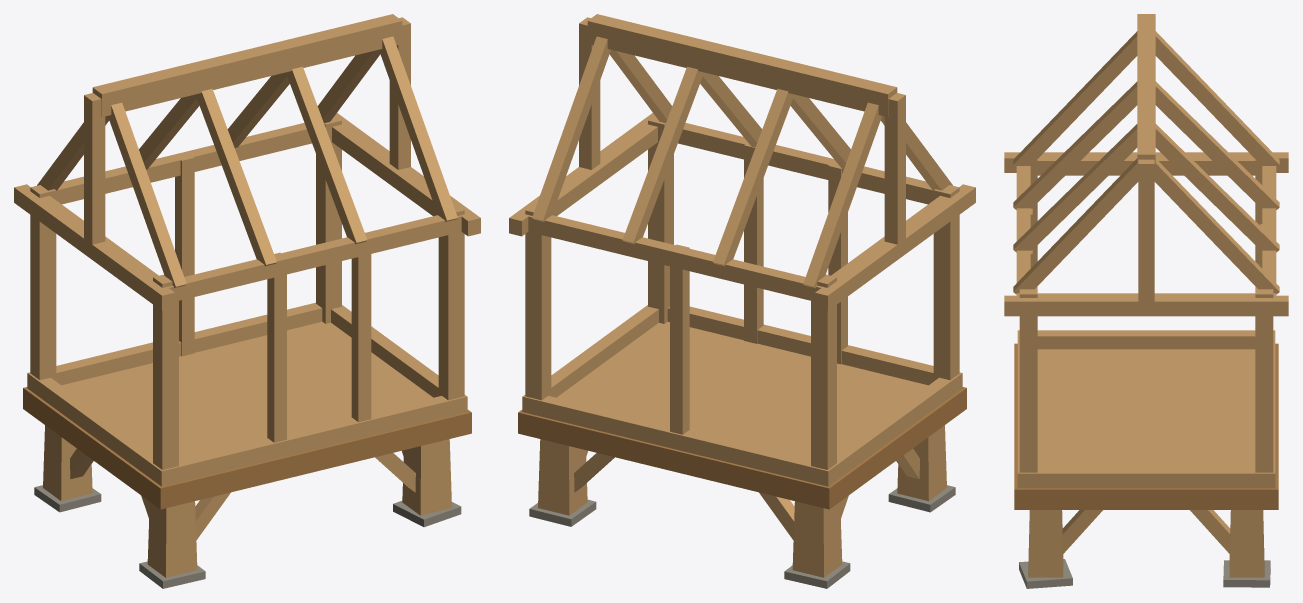
Rendered from frame.glb.
The picture shows the model from 3 angles, left to right: view 1: azimuth 30°, elevation 25°; view 2: azimuth 150°, elevation 25°; view 3: azimuth 270°, elevation 25°; orthographic projection. The views are drawn at different scales.
Visible parts, largest first — view 1: timber_frame, floor_deck, floor_frame, legs, stone_pads; view 2: timber_frame, floor_deck, floor_frame, legs, stone_pads; view 3: timber_frame, floor_deck, floor_frame, legs, stone_pads.
Boxes of the visible parts, <box> form: timber_frame: <box>14,14,480,486</box>; floor_deck: <box>62,321,433,459</box>; floor_frame: <box>23,387,471,509</box>; legs: <box>43,425,451,577</box>; stone_pads: <box>34,485,461,588</box>; timber_frame: <box>509,14,975,486</box>; floor_deck: <box>556,321,928,459</box>; floor_frame: <box>518,387,966,509</box>; legs: <box>538,425,946,577</box>; stone_pads: <box>529,485,955,588</box>; timber_frame: <box>1004,14,1288,488</box>; floor_deck: <box>1037,349,1255,467</box>; floor_frame: <box>1014,343,1278,509</box>; legs: <box>1028,510,1264,577</box>; stone_pads: <box>1019,559,1270,588</box>.
Bounding box in the file's own units: 1.74 × 2.36 × 1.4.
